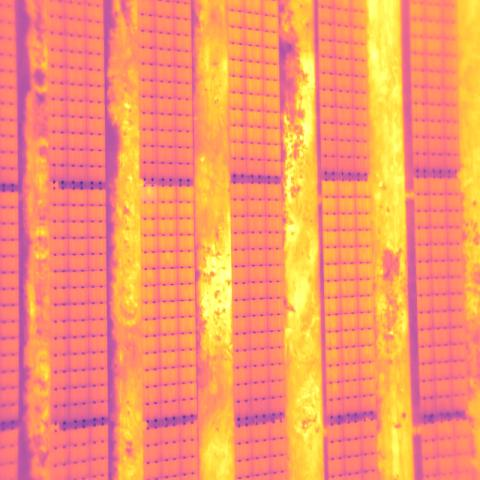fault: (140, 184, 157, 203)
